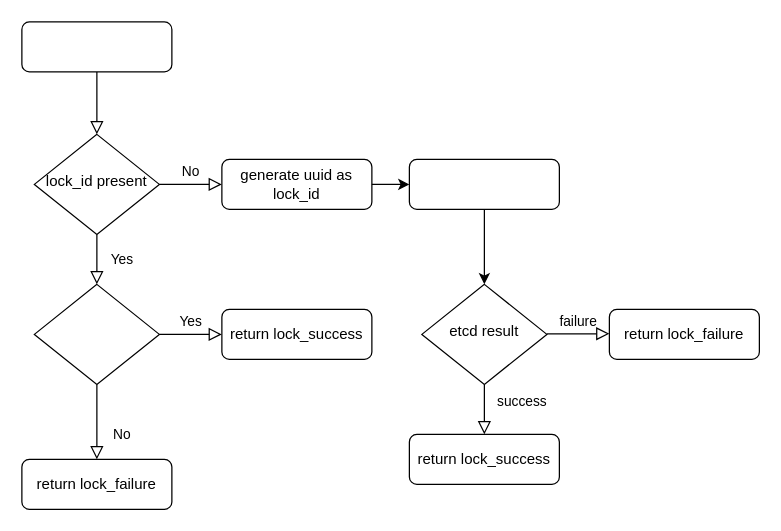
This 781x531 diagram has some shape labels left out. Each missing label, with the box of its shape:
lock(lock_id:optional): (21, 21, 172, 72)
lock_id equals the value in etcd: (33, 283, 159, 384)
write lock_id as value to etcd: (408, 158, 559, 209)
